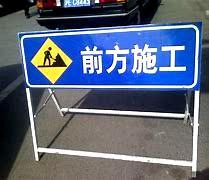sign: (20, 25, 200, 89)
